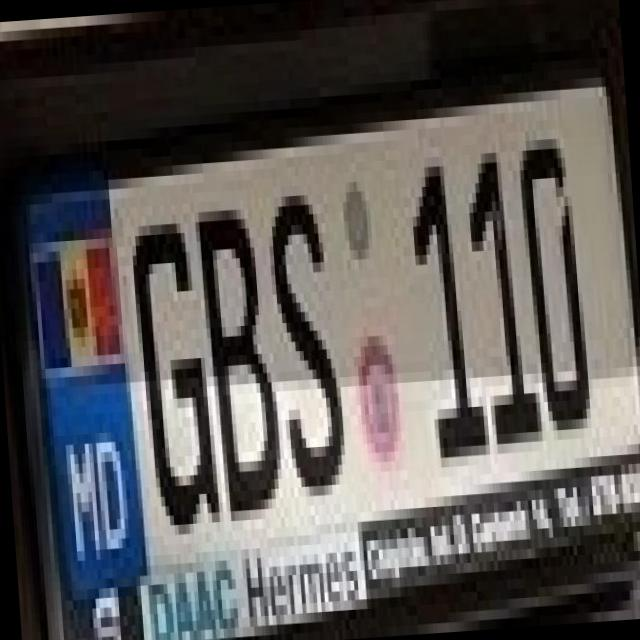0: (498, 117, 598, 433)
1: (383, 134, 498, 460), (436, 121, 546, 446)
B: (176, 178, 288, 513)
G: (114, 202, 220, 528)
S: (248, 164, 355, 498)
